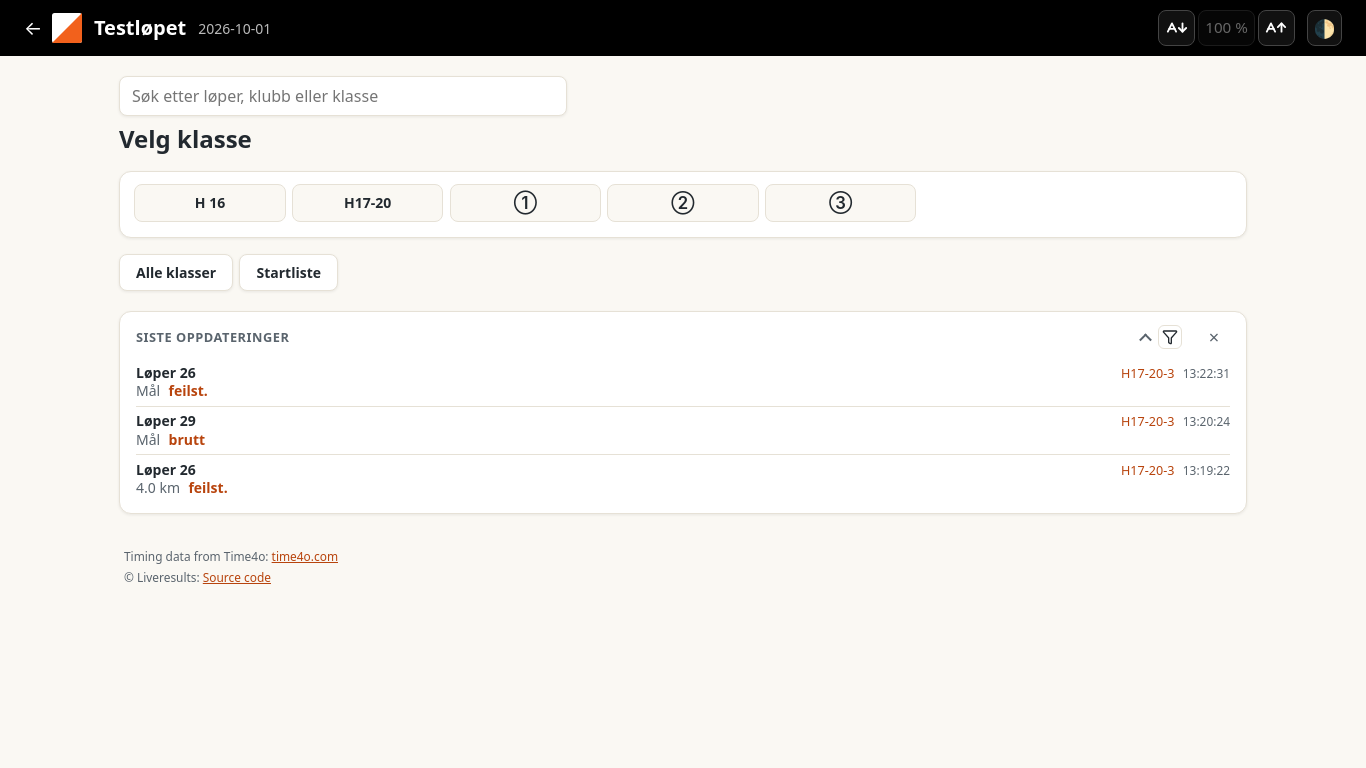
App › lets the user choose the classes of the latest updates
Expected: the number of list items is 3, [136,358,1230,406]; [136,406,1230,454]; [136,454,1230,503]
Click the button named "Velg klasser" at [1170, 337], box [1158,325,1182,349]
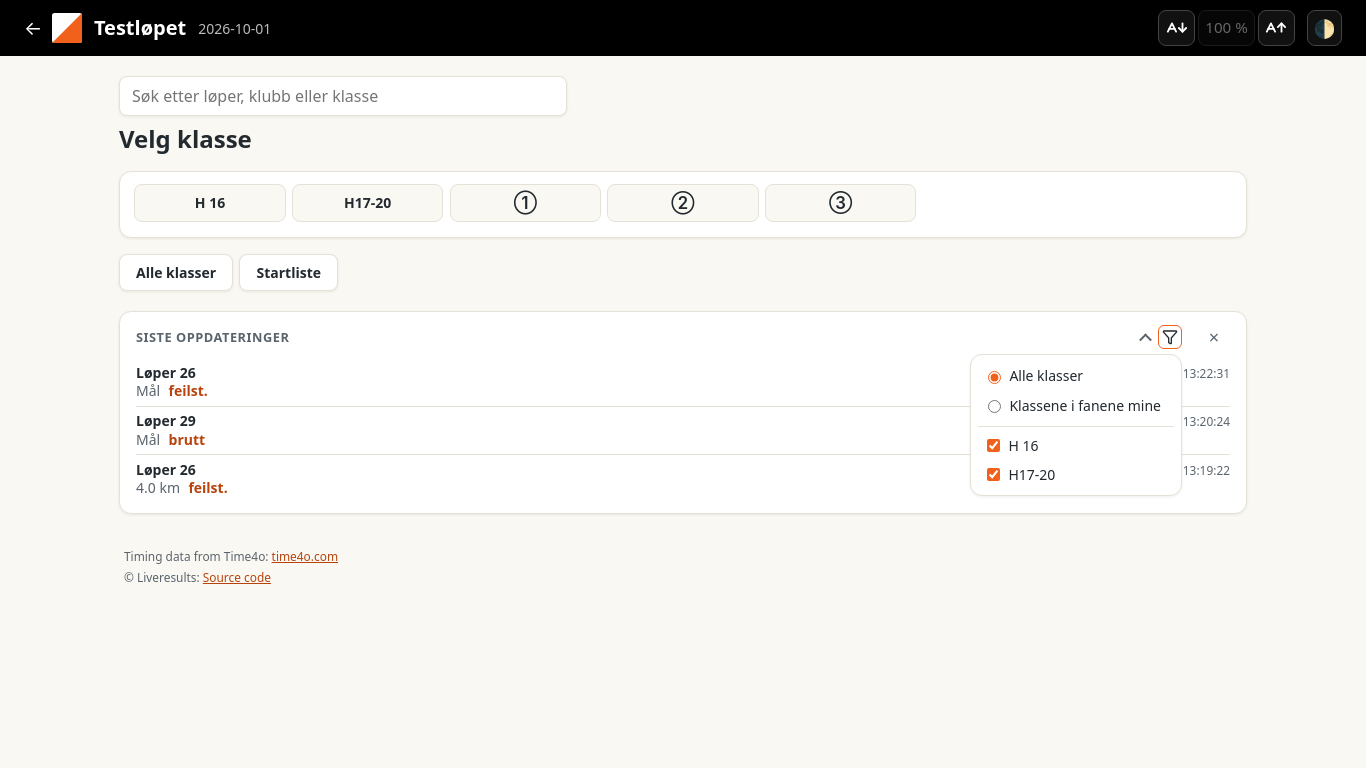
Click the checkbox labelled "H 16" at [993, 445], box [987,439,1000,452]
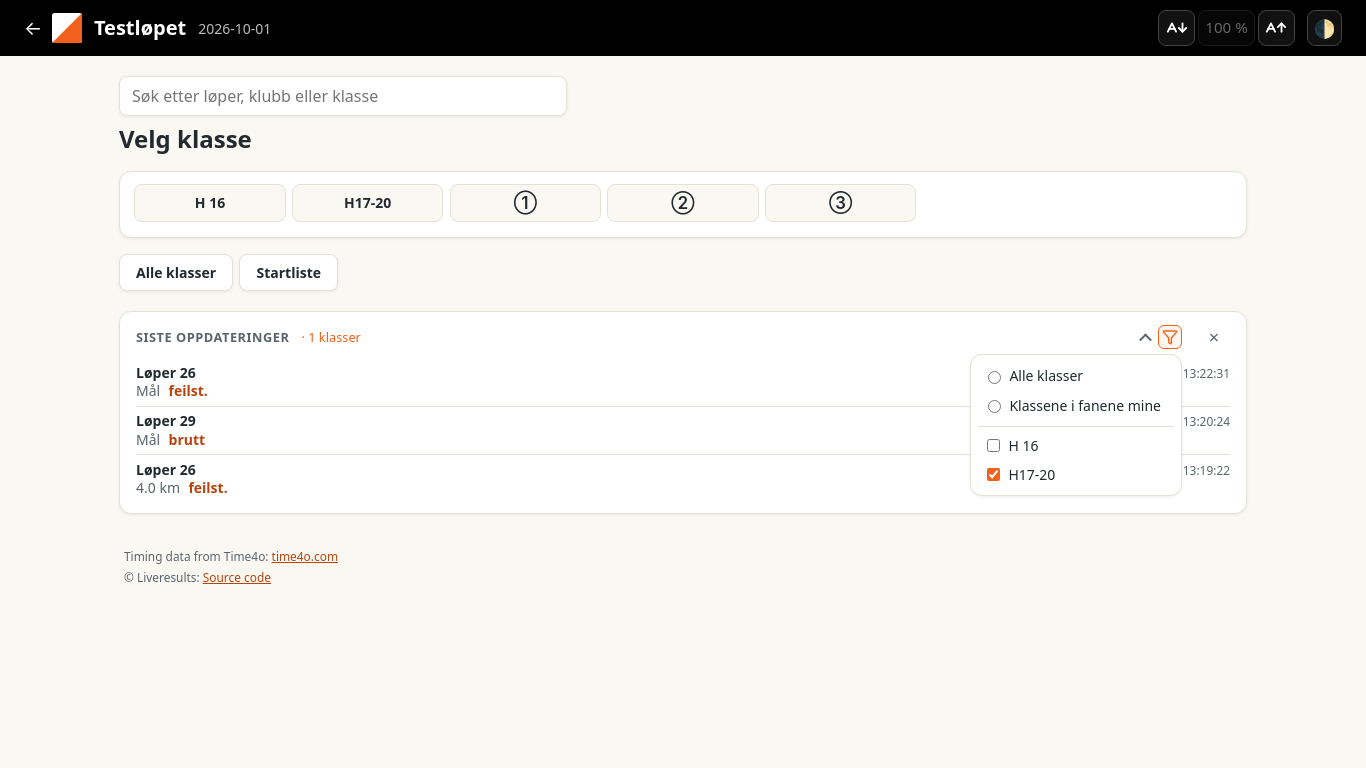
Click the checkbox labelled "H17-20" at [993, 475], box [987,468,1000,481]
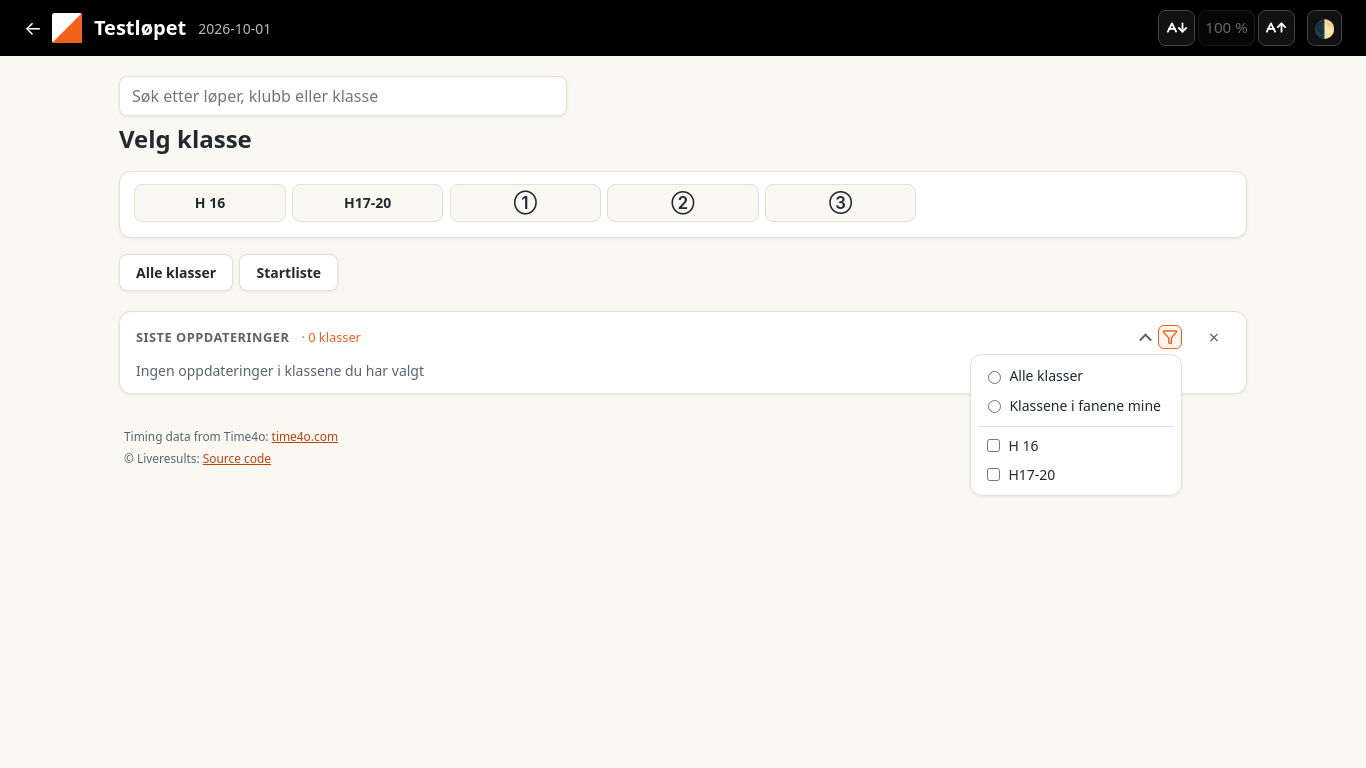
Now no list items are shown
Now the text "Ingen oppdateringer i klassene du har valgt" is shown, box [136,361,424,380]
Click the radio button labelled "Alle klasser" at [994, 377], box [988,371,1001,384]
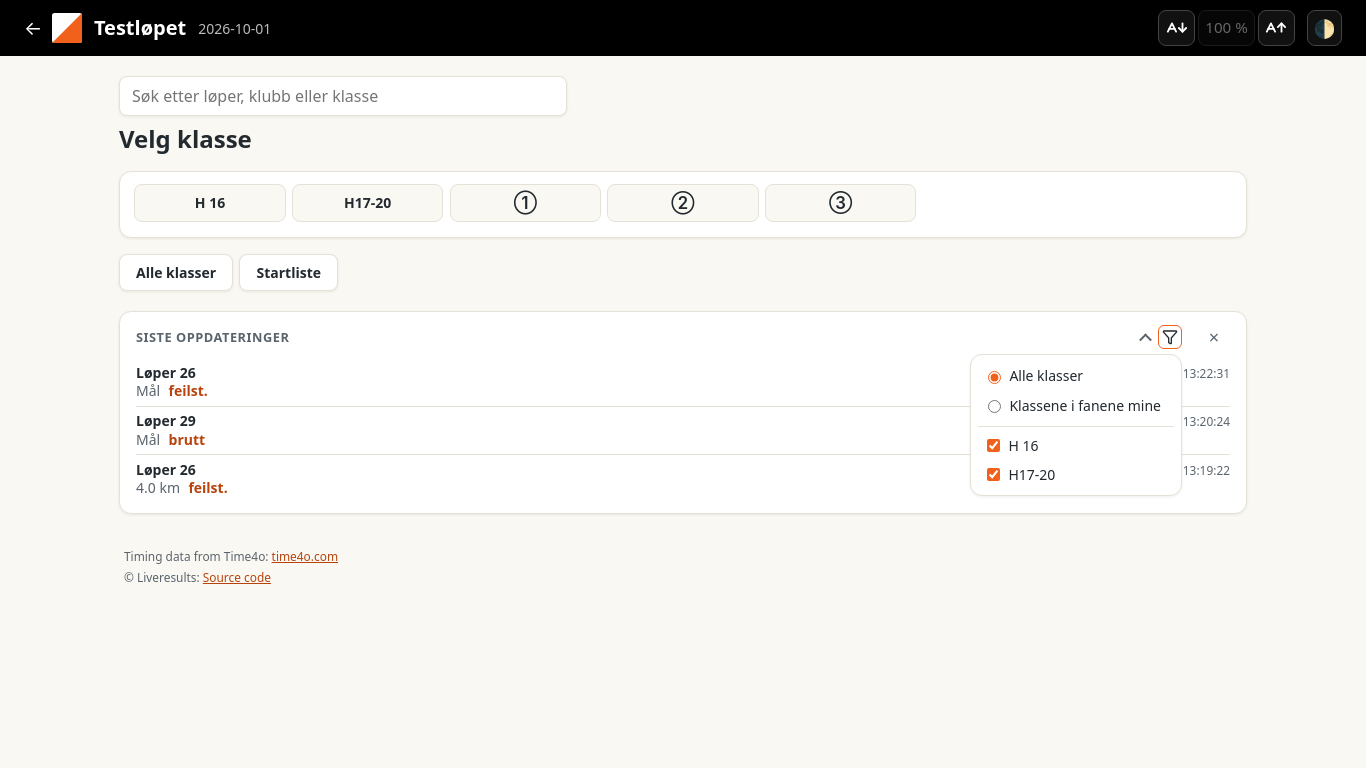
Now the number of list items is 3, box [136,358,1230,406]; [136,406,1230,454]; [136,454,1230,503]
